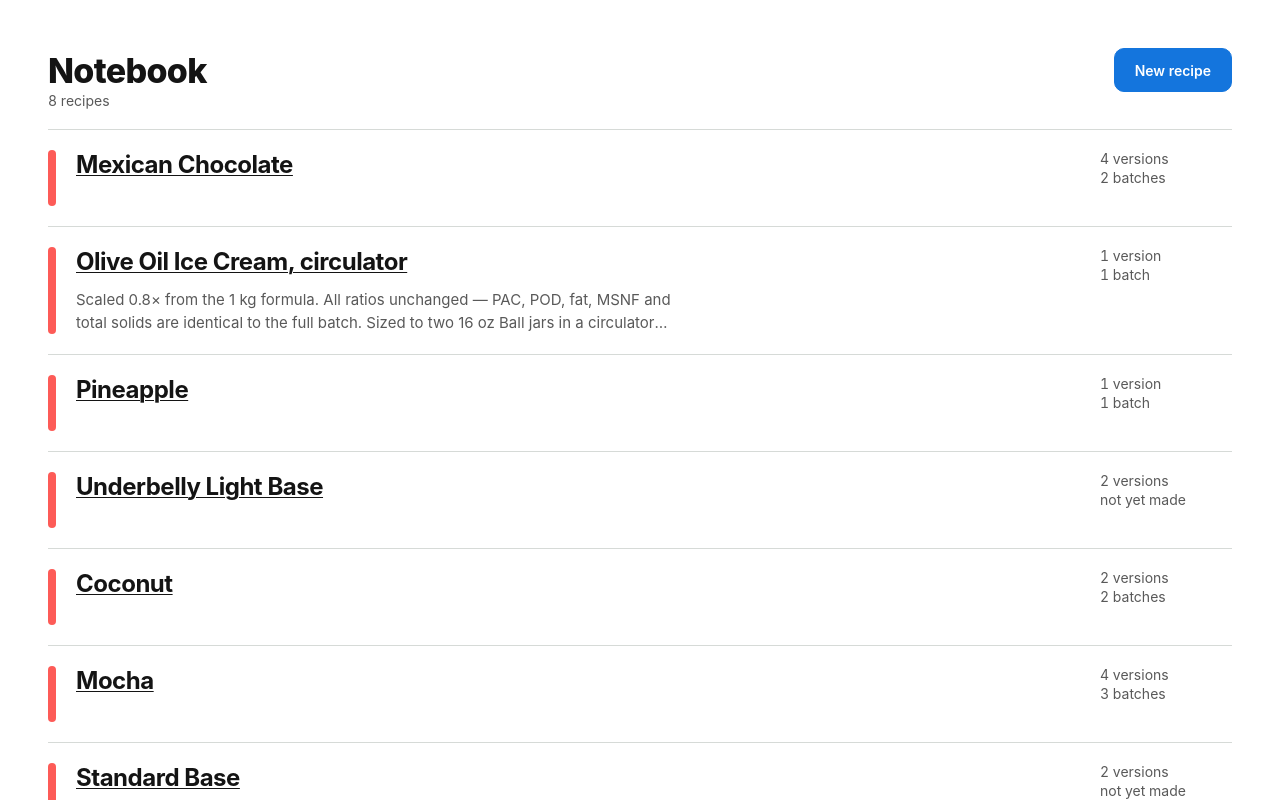
New recipe, a name and Start open the creation editor (MAKE-04) › opens the entry with Name focused, and offers no New recipe while it is open
Click the button "New recipe" at (1173, 70), box [1114,48,1232,92]
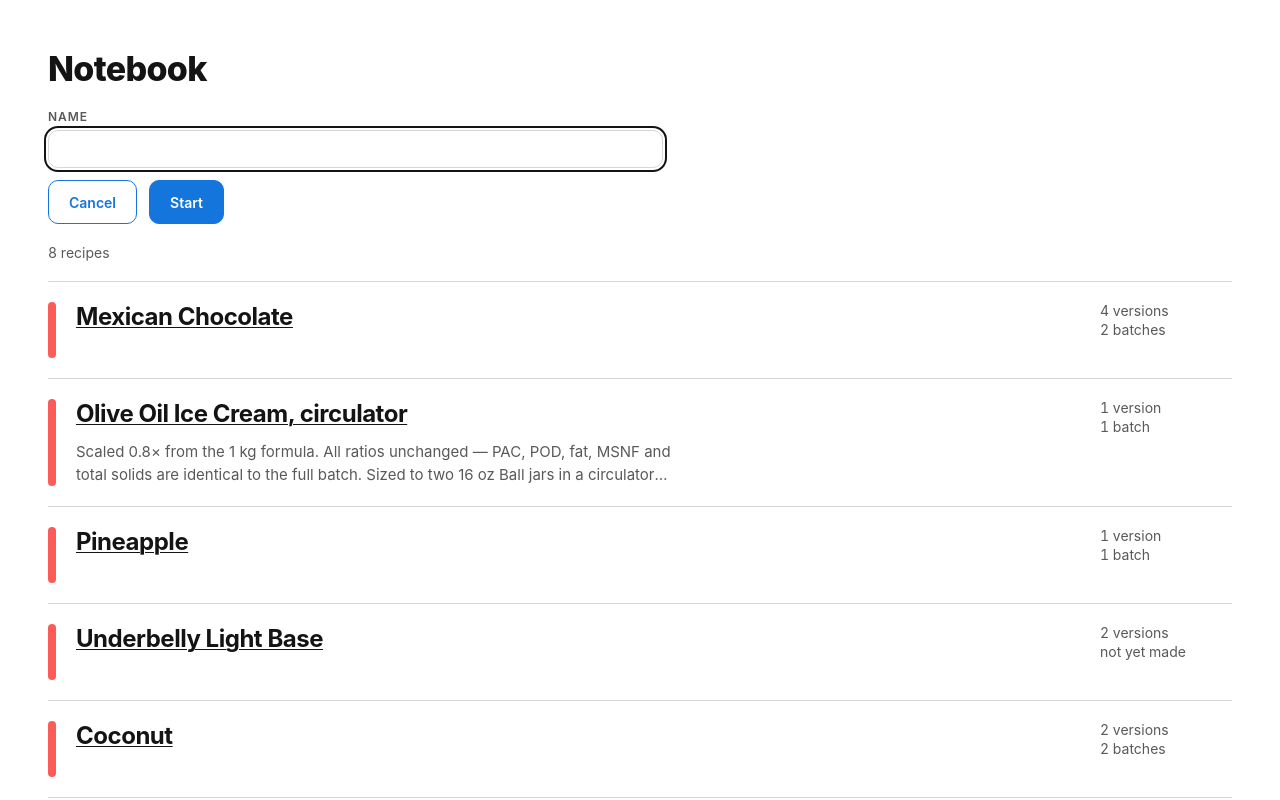
Check: the form named "New recipe" is shown, box [48,109,663,224]
Check: the button "Start" is shown, box [149,180,224,224]
